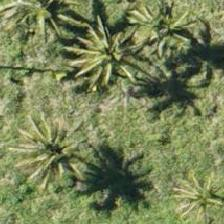coconut_tree: (59, 1, 149, 91), (0, 107, 89, 197), (122, 0, 212, 76), (140, 153, 223, 223), (0, 0, 87, 46)
